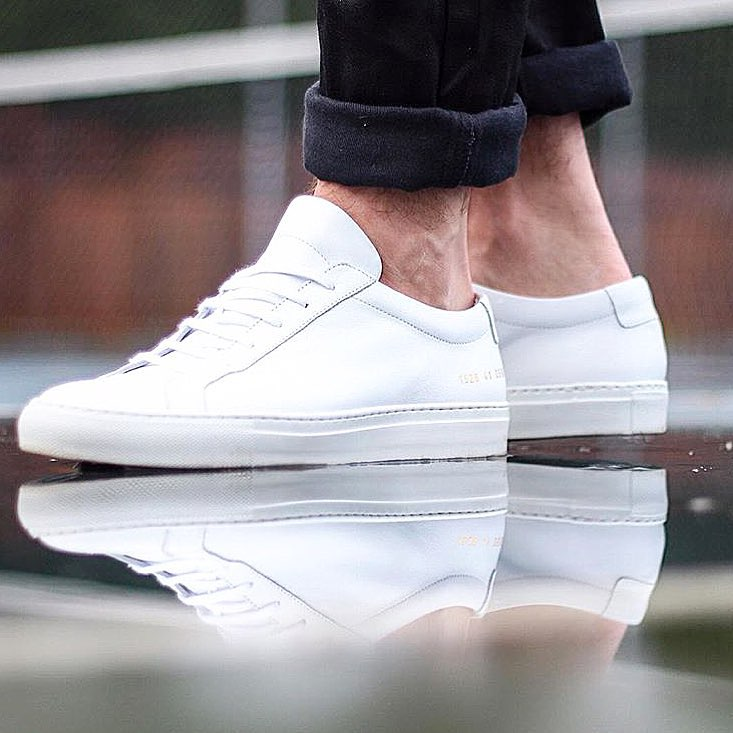sneaker: (4, 154, 531, 488), (443, 74, 681, 472)
